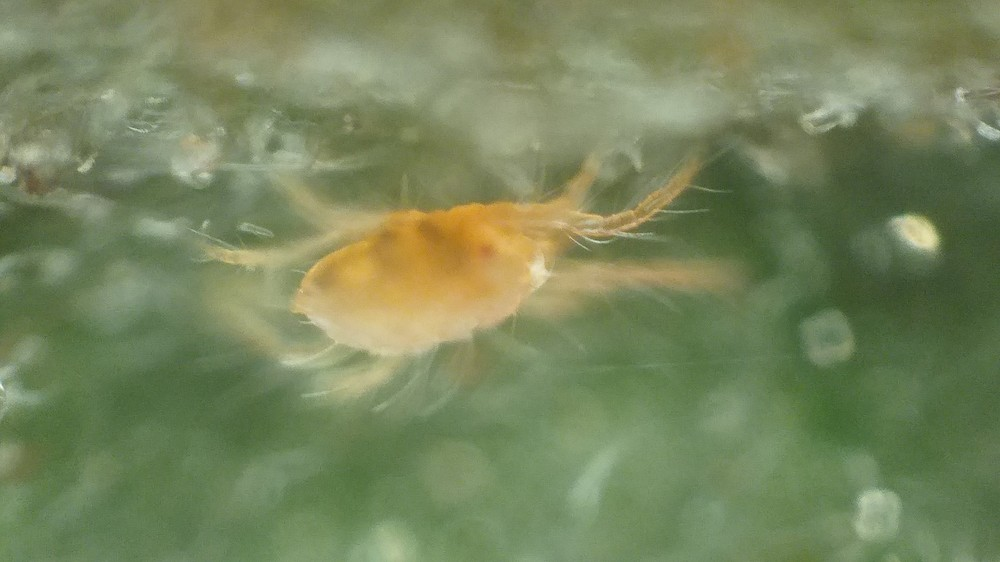Aracnido Rojo: (187, 132, 768, 422)
